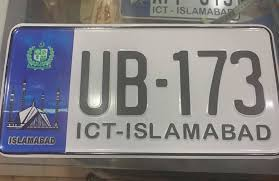1: (171, 48, 195, 117)
3: (229, 48, 268, 116)
7: (196, 48, 226, 117)
A: (162, 120, 181, 141), (202, 122, 220, 141), (237, 123, 253, 141)
B: (115, 48, 148, 117), (221, 122, 236, 141)
C: (83, 120, 101, 140)
D: (254, 121, 272, 142)
I: (74, 120, 83, 139), (125, 121, 133, 140)
L: (148, 121, 162, 140)
M: (182, 121, 202, 141)
S: (132, 121, 148, 140)
T: (101, 120, 116, 140)
U: (79, 48, 113, 117)
